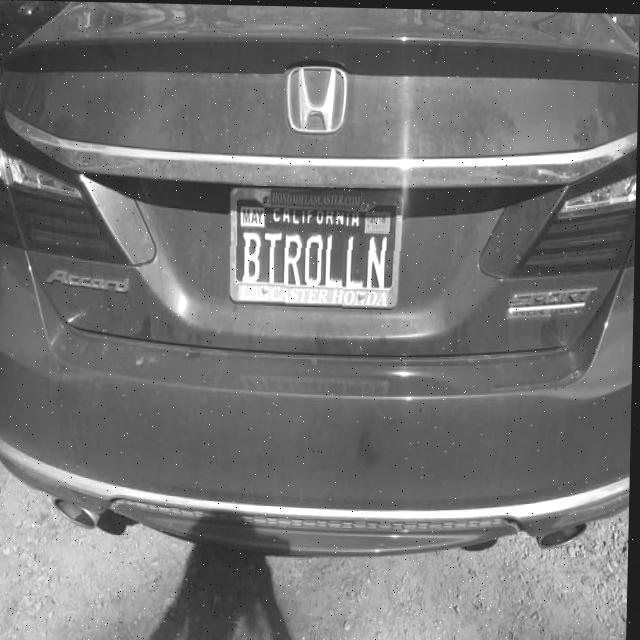LicensePlate: (229, 185, 407, 308)
